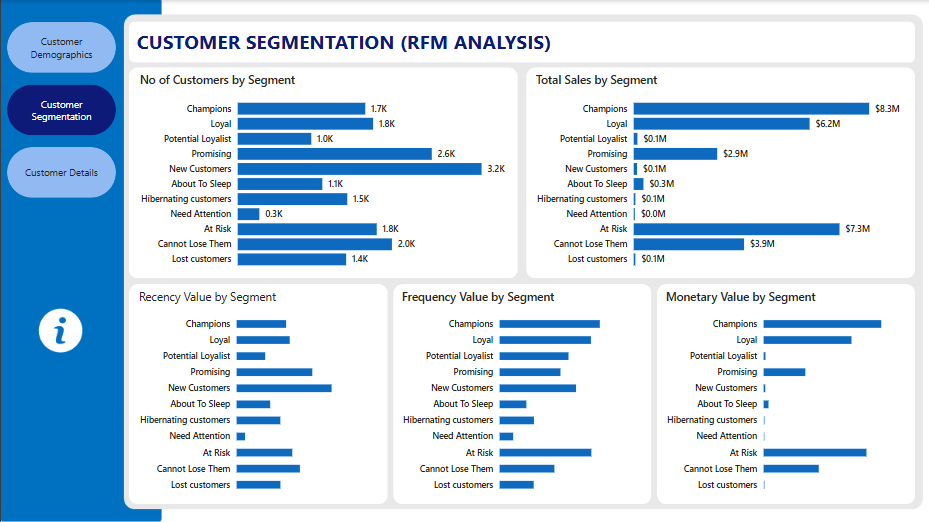

The page's visual inventory and layout, read from the dashboard file:
{"tool":"powerbi","page":{"name":"Customer Segmentation","canvas":[1280,720],"ordinal":1},"visuals":[{"type":"barChart","title":"No of Customers by Segment","fields":{"Y":["Count(FactInternetSales.CustomerKey)"],"Category":["Segment Table.Segment"]},"box":[186,98.5,518.1,279.7],"z":0},{"type":"barChart","title":"Total Sales by Segment","fields":{"Y":["Sum(FactInternetSales.SalesAmount)"],"Category":["Segment Table.Segment"]},"box":[731.1,98.5,518.1,279.7],"z":1000},{"type":"barChart","title":"Recency Value by Segment","fields":{"Y":["Sum(RFM Table.Recency_Value)"],"Category":["Segment Table.Segment"]},"box":[184.4,397.4,340.1,289.3],"z":2000},{"type":"barChart","title":"Frequency Value by Segment","fields":{"Y":["Sum(RFM Table.Frequency_Value)"],"Category":["Segment Table.Segment"]},"box":[546.8,397.4,340.1,289.3],"z":3000},{"type":"barChart","title":"Monetary Value by Segment","fields":{"Y":["Sum(RFM Table.Monetary_value)"],"Category":["Segment Table.Segment"]},"box":[909.1,397.4,340.1,289.3],"z":4000},{"type":"textbox","box":[181.2,33.4,672.3,58.8],"z":5000},{"type":"pageNavigator","box":[7.9,30.2,151,244.8],"z":5001},{"type":"image","box":[44.5,416.4,76.3,79.5],"z":5002}]}

Visuals, with their boxes in screenshot pixels (x1, y1, x2, y2), scaled from the page's 1280x720 canvas onto the 929x522 screenshot:
"No of Customers by Segment" barChart: <box>135,71,511,274</box>
"Total Sales by Segment" barChart: <box>531,71,907,274</box>
"Recency Value by Segment" barChart: <box>134,288,381,498</box>
"Frequency Value by Segment" barChart: <box>397,288,644,498</box>
"Monetary Value by Segment" barChart: <box>660,288,907,498</box>
textbox: <box>132,24,619,67</box>
pageNavigator: <box>6,22,115,199</box>
image: <box>32,302,88,360</box>
